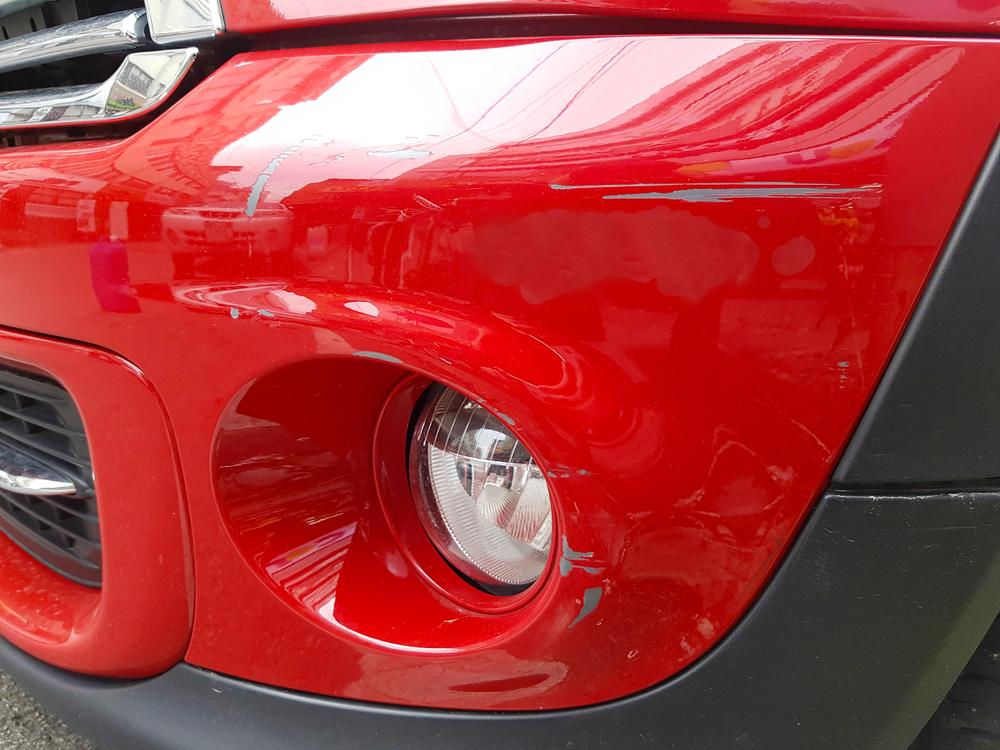scratch: (231, 131, 908, 226), (553, 530, 605, 630)
